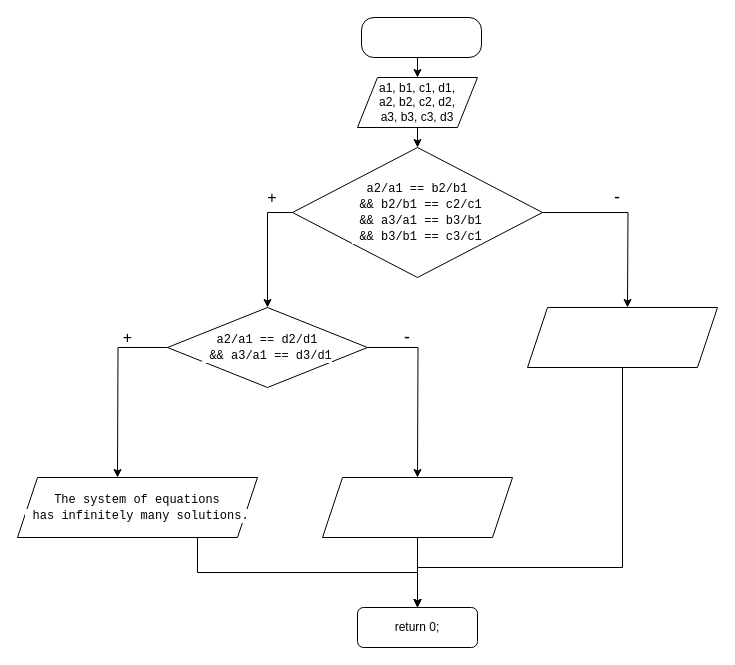
The diagram is 735 pixels wide and 665 high, and some of its shapes have lost their labels. Each missing label, with the centre of its shape:
int main(): the point at 421,37
The system of equations has 1 solution.: the point at 622,337
The system of equations has no solutions.: the point at 417,507
